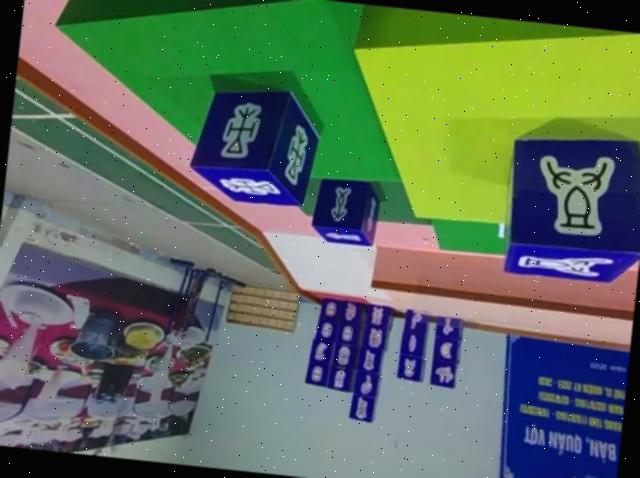R2 Real Blue: (495, 123, 640, 286), (186, 79, 322, 208), (307, 169, 380, 243)
